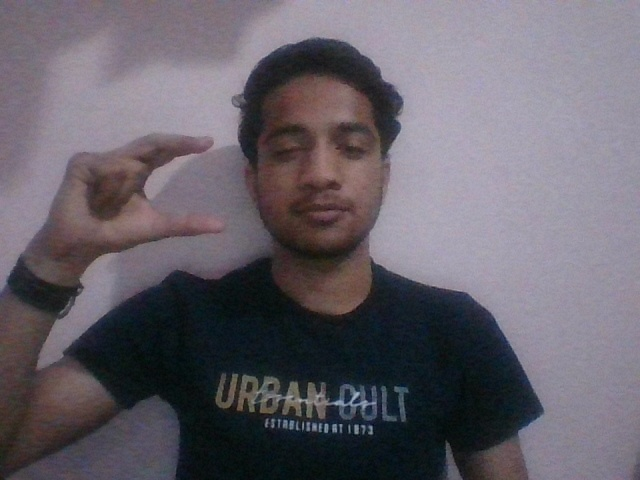no: (9, 135, 228, 243)
